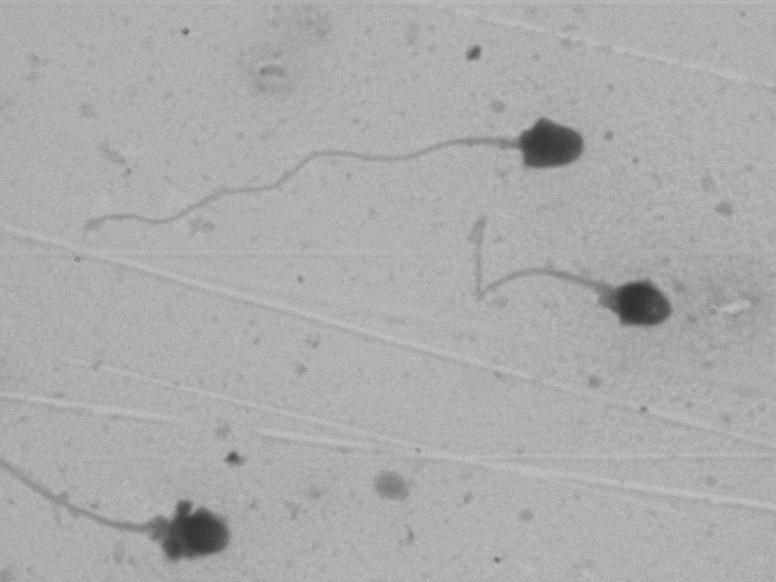Abnormal: (115, 104, 606, 207), (450, 214, 690, 348), (48, 440, 260, 568)
